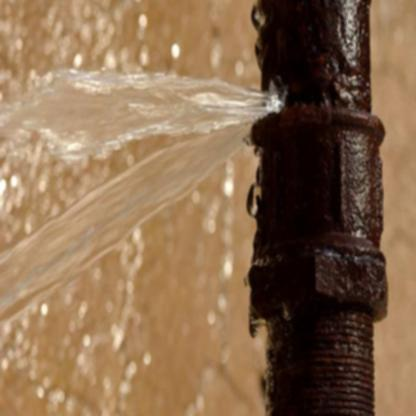burst: (219, 77, 301, 164)
